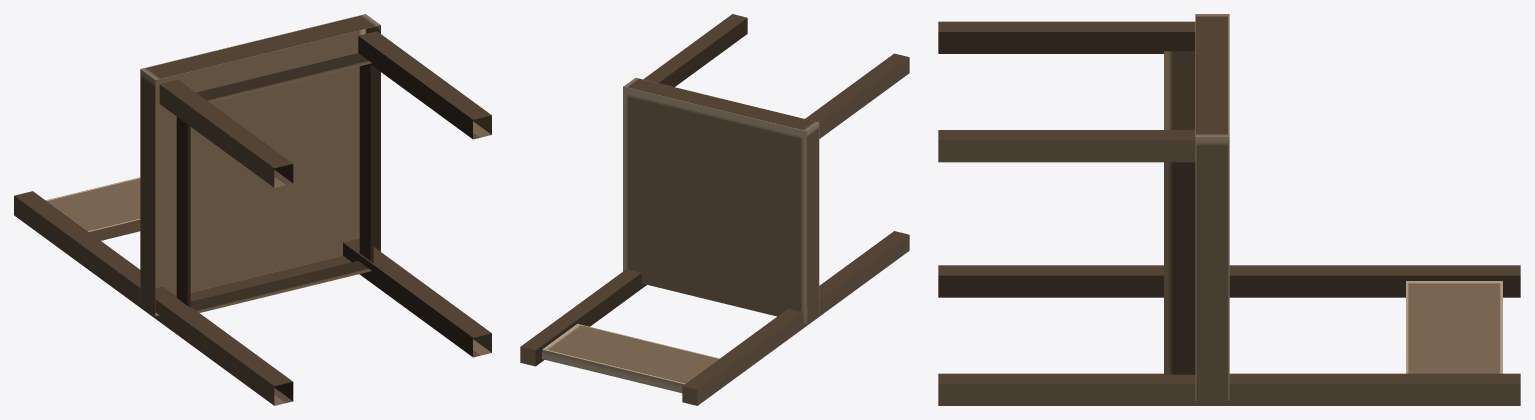
Rendered from Chair.fbx.
3 views of the same model, side by side, from view 1: azimuth 30°, elevation 25°; view 2: azimuth 150°, elevation 25°; view 3: azimuth 270°, elevation 25° (orthographic). The views are drawn at different scales.
Visible parts, largest first — view 1: chair; view 2: chair; view 3: chair.
Boxes of the visible parts, x1=… form: chair: x1=14, y1=14, x2=491, y2=405; chair: x1=520, y1=14, x2=909, y2=405; chair: x1=938, y1=14, x2=1520, y2=405.
Size of the model in its own units: 6000 by 6168 by 12000.
